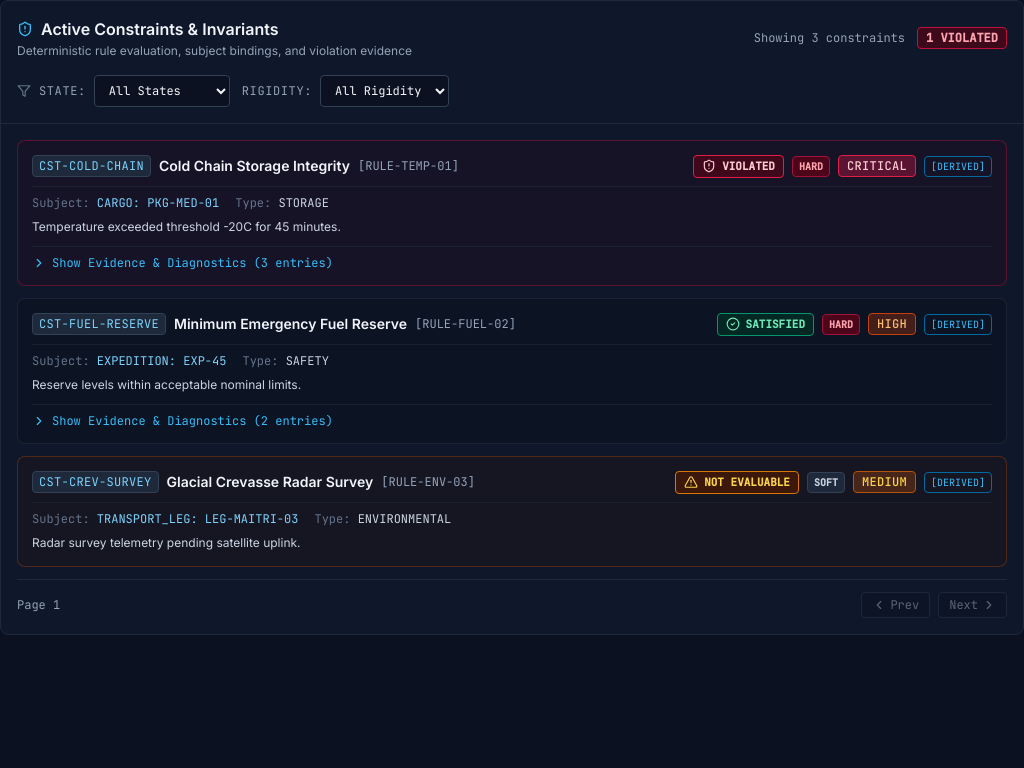
Test: ActiveConstraintsFeed › toggles evidence expansion to display structured key-value diagnostics
The image size is (1024, 768).
Expected: the text "CST-COLD-CHAIN" is shown, top-left (32, 155), bottom-right (151, 177)
Click to expand
Click the button "Show Evidence & Diagnostics (3 entries)" at (182, 263), box top-left (32, 255), bottom-right (333, 271)
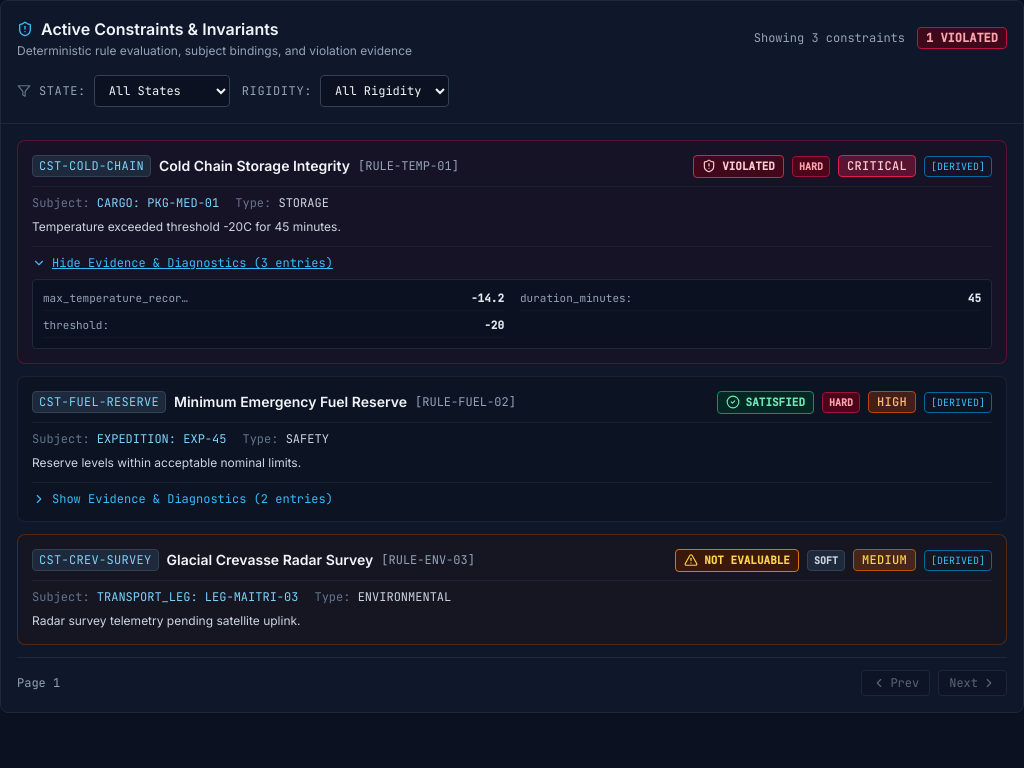
Now the button named "show evidence & diagnostics" is expanded
Now the text "max_temperature_recorded:" is shown, box top-left (43, 290), bottom-right (193, 306)
Now the text "-14.2" is shown, box top-left (471, 290), bottom-right (504, 306)
Click again to hide
Click the button named "show evidence & diagnostics" at (182, 263), box top-left (32, 255), bottom-right (333, 271)
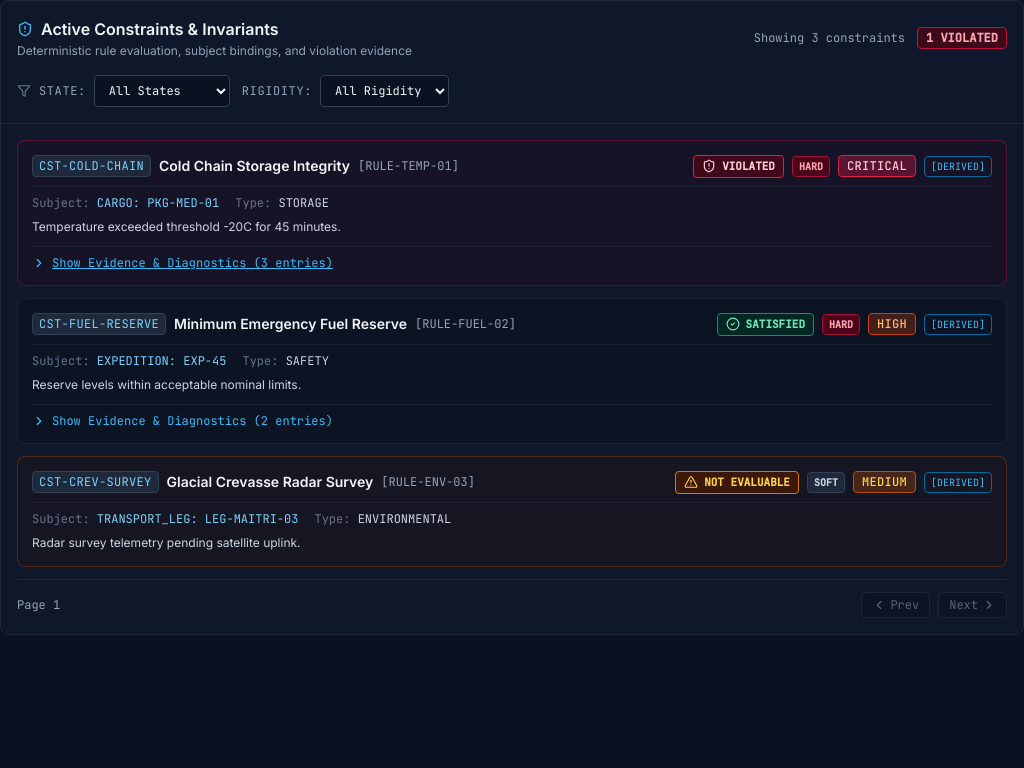
Expected: the text "max_temperature_recorded:" is not shown
Now the button "Show Evidence & Diagnostics (3 entries)" is collapsed, box top-left (32, 255), bottom-right (333, 271)
